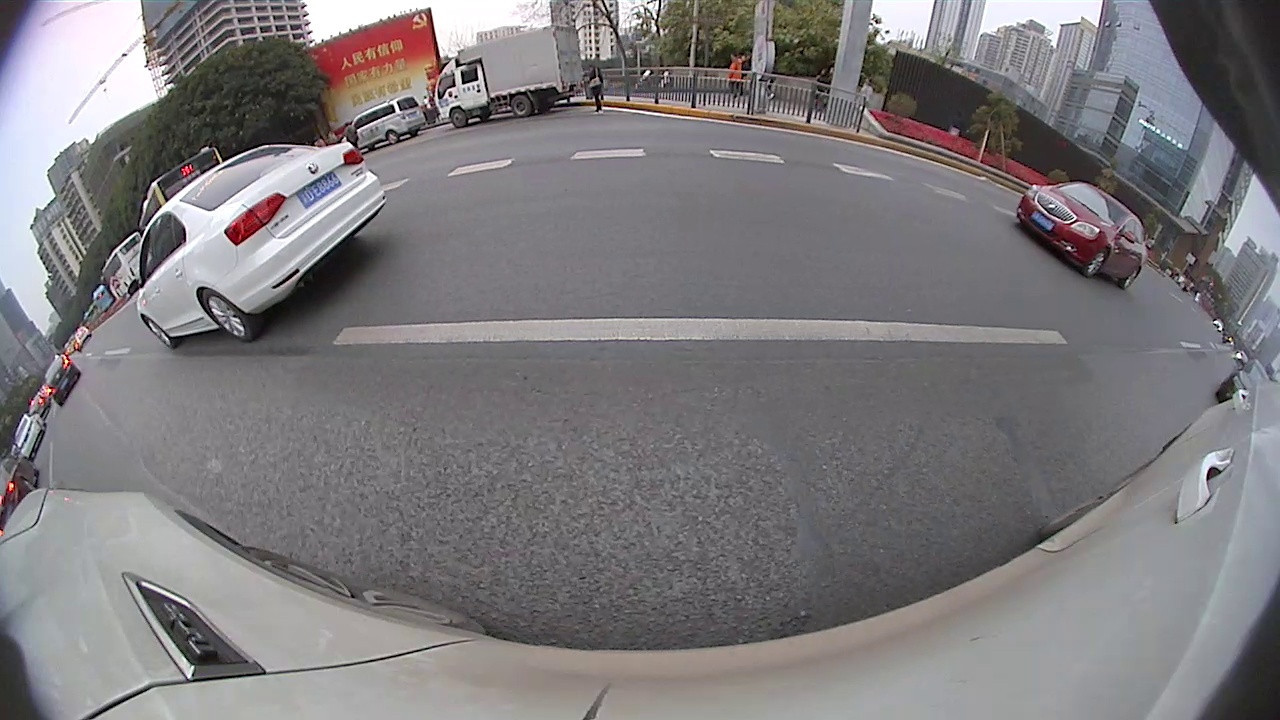bus: (137, 146, 226, 238), (99, 230, 148, 307)
car: (136, 140, 390, 352), (1017, 179, 1150, 293), (347, 93, 429, 154), (1, 459, 39, 530), (41, 352, 83, 409), (14, 410, 47, 461)
front: (143, 313, 176, 350), (1083, 248, 1108, 280), (446, 106, 468, 129)
person: (590, 67, 607, 116)
rear: (194, 284, 258, 344), (506, 92, 532, 119), (1121, 263, 1142, 290), (383, 129, 401, 147)
truck: (434, 22, 586, 130)
